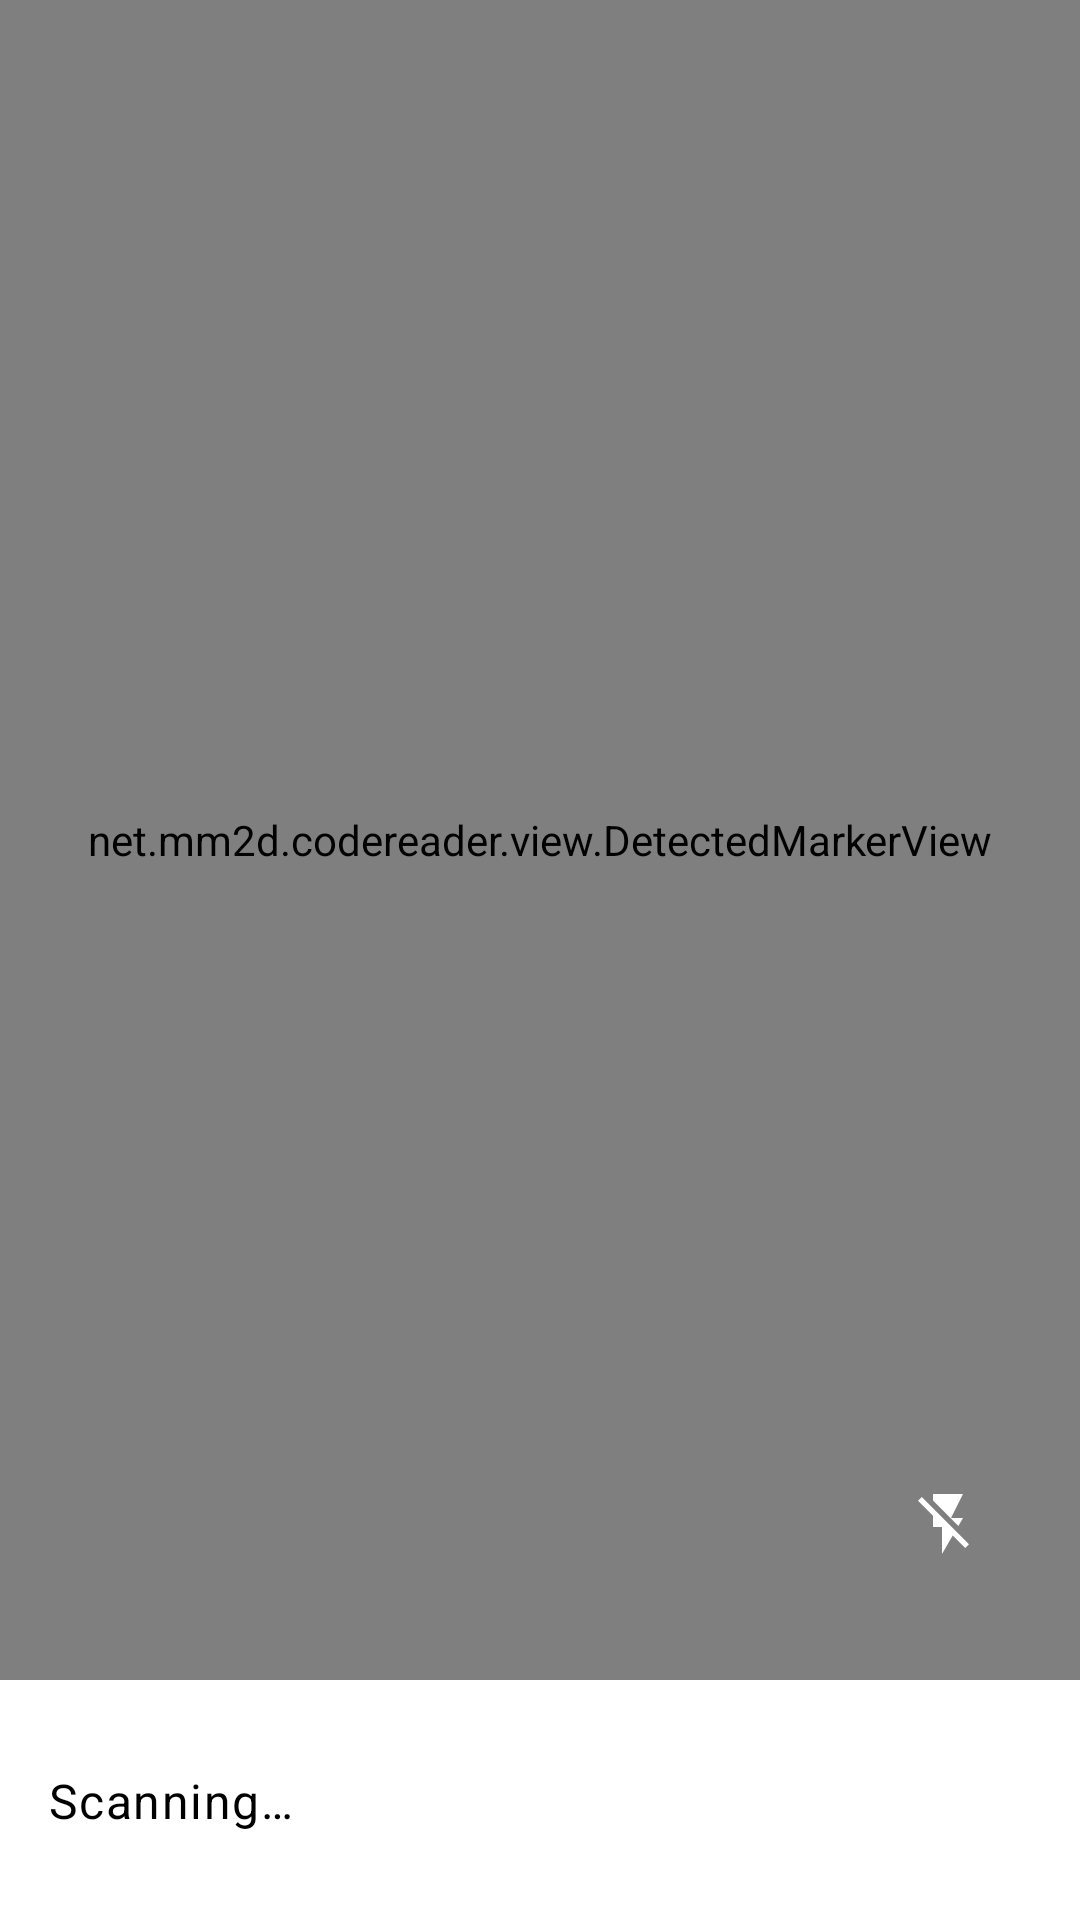

Named icons in this screenshot (1080 x 1920) and their centers, point (x, y):
flash off: point (943, 1524)
